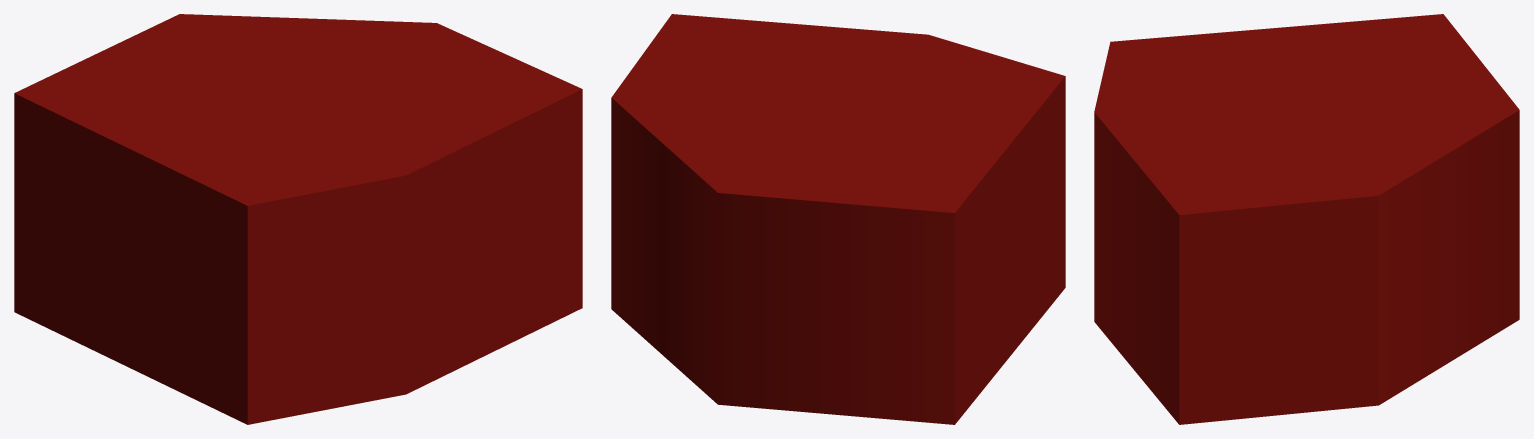
Rendered from Steak_Piece3.FBX.
3 renders of one model, left to right at view 1: azimuth 30°, elevation 25°; view 2: azimuth 150°, elevation 25°; view 3: azimuth 270°, elevation 25°, orthographic. The views are drawn at different scales.
Visible parts, largest first — view 1: Steak_Piece3; view 2: Steak_Piece3; view 3: Steak_Piece3.
Part boxes in pixels (x1=…): Steak_Piece3: x1=14, y1=14, x2=582, y2=424; Steak_Piece3: x1=611, y1=14, x2=1065, y2=424; Steak_Piece3: x1=1094, y1=14, x2=1519, y2=424.
Bounding box in the file's own units: 708 × 633 × 344.
